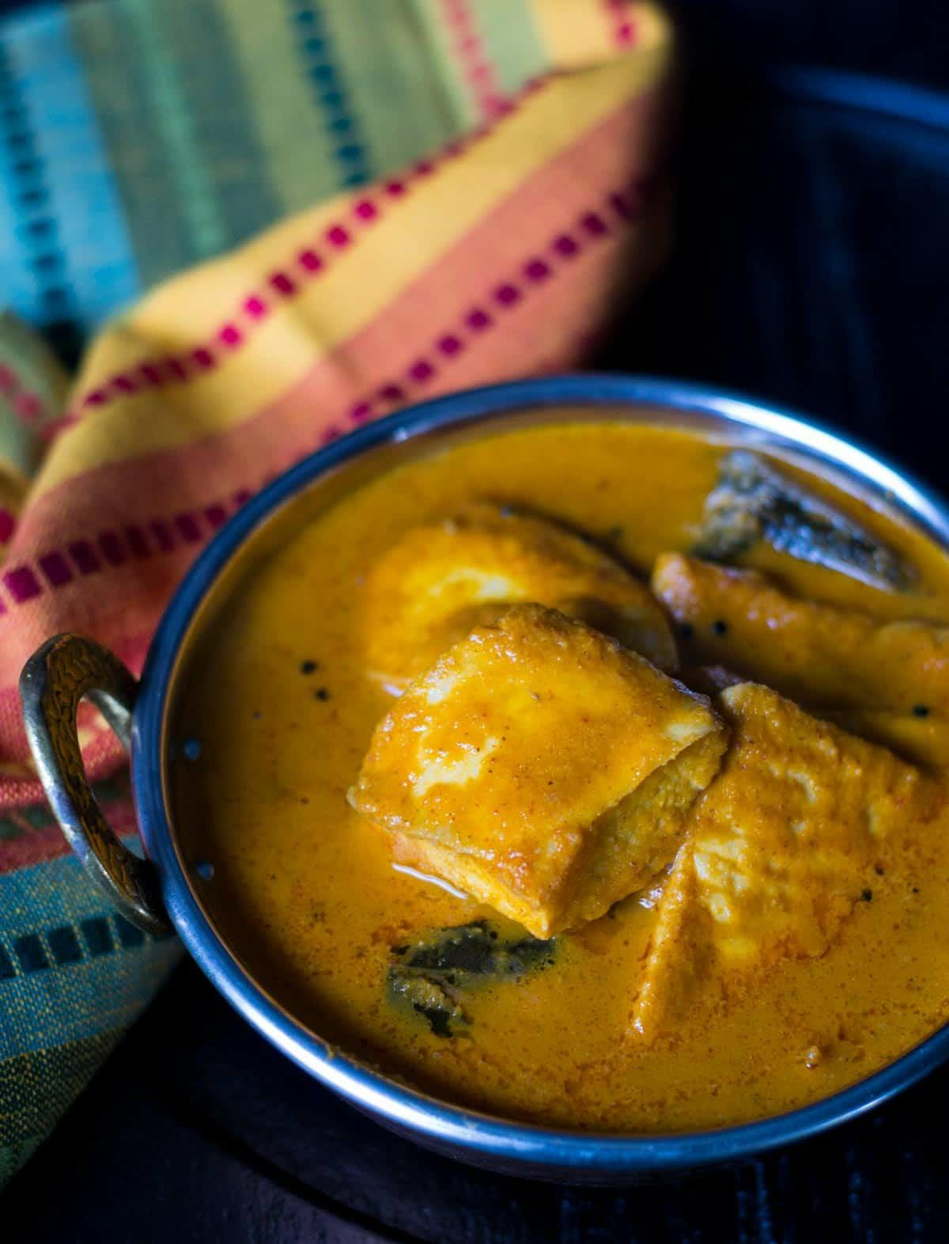FishCurry: (188, 419, 949, 1136)
